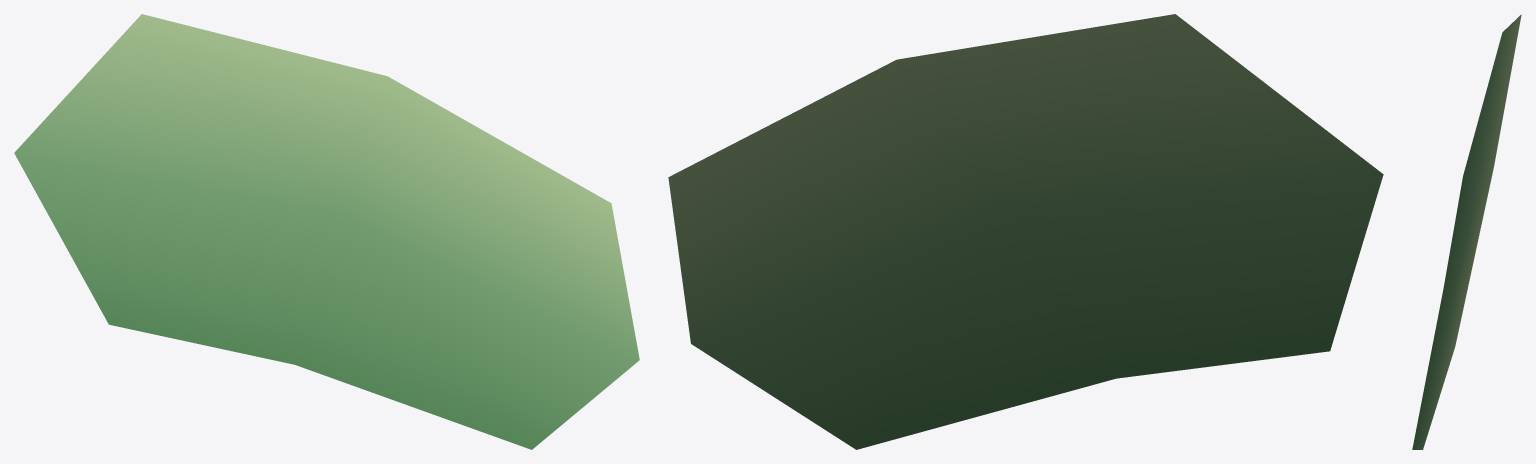
File: MinionChestEyebrowRight.glb
3 views of the same model, side by side, from view 1: azimuth 30°, elevation 25°; view 2: azimuth 150°, elevation 25°; view 3: azimuth 270°, elevation 25° (orthographic). The views are drawn at different scales.
Visible parts, largest first — view 1: MinionChestEyebrowRight; view 2: MinionChestEyebrowRight; view 3: MinionChestEyebrowRight.
Part boxes in pixels (bbox=[...]): MinionChestEyebrowRight: bbox=[14, 14, 639, 449]; MinionChestEyebrowRight: bbox=[668, 14, 1383, 449]; MinionChestEyebrowRight: bbox=[1412, 14, 1521, 449].
Bounding box in the file's own units: 0.2395 × 0.1832 × 0.0557.
